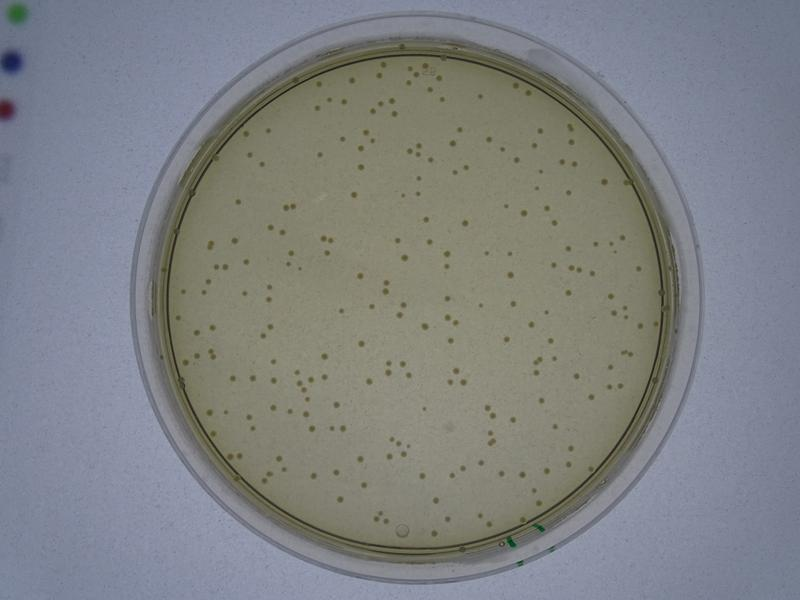colony: (316, 350, 333, 362), (418, 468, 428, 484), (354, 270, 367, 282), (398, 253, 411, 265), (561, 187, 574, 199), (560, 287, 574, 298), (458, 218, 471, 229), (354, 162, 367, 173), (230, 197, 245, 206), (534, 396, 546, 407), (335, 494, 346, 506), (482, 132, 492, 145), (228, 235, 239, 246), (501, 335, 513, 345), (353, 453, 365, 463), (419, 319, 428, 332), (256, 160, 269, 169), (598, 177, 611, 186), (518, 208, 528, 219), (473, 92, 485, 101), (353, 339, 366, 347), (336, 305, 346, 315), (364, 375, 374, 385), (505, 272, 516, 281), (330, 468, 341, 477), (312, 102, 320, 114), (456, 122, 464, 134), (320, 250, 332, 258), (307, 426, 316, 436), (348, 190, 359, 198), (314, 150, 325, 158), (240, 289, 249, 298), (551, 218, 560, 227), (262, 127, 272, 135), (360, 482, 370, 490), (333, 401, 340, 411), (509, 301, 517, 309)
